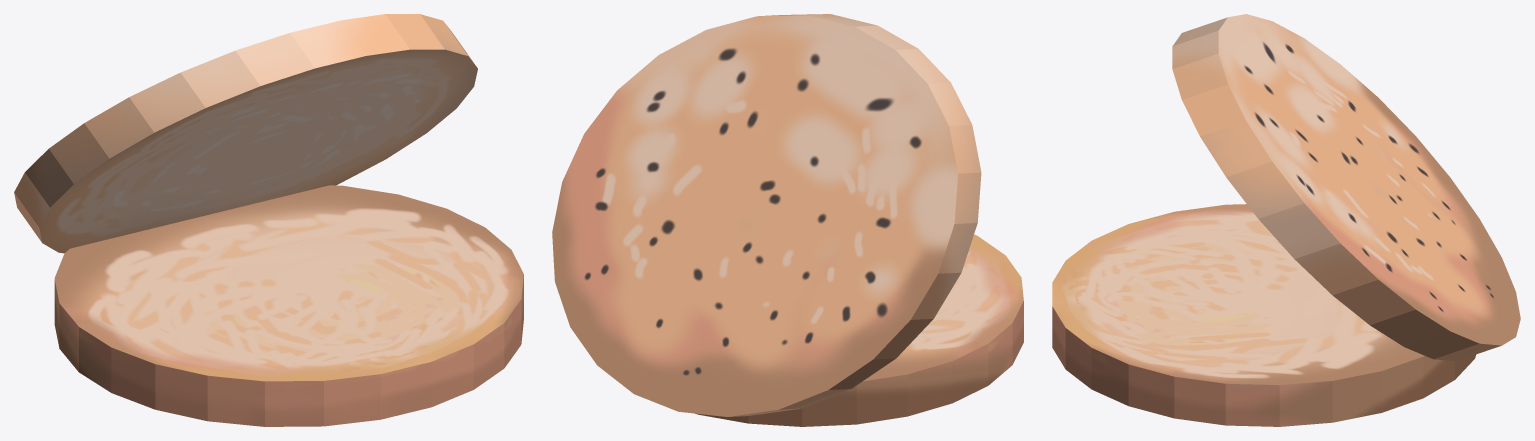
File: BREAD.obj
3 renders of one model, left to right at view 1: azimuth 30°, elevation 25°; view 2: azimuth 150°, elevation 25°; view 3: azimuth 270°, elevation 25°, orthographic. The views are drawn at different scales.
Visible parts, largest first — view 1: Cylinder, Cylinder.001; view 2: Cylinder.001, Cylinder; view 3: Cylinder.001, Cylinder.
Part boxes in pixels (left/top/right/bottom): Cylinder: left=54, top=185, right=523, bottom=426; Cylinder.001: left=14, top=14, right=477, bottom=253; Cylinder.001: left=552, top=14, right=981, bottom=416; Cylinder: left=695, top=234, right=1023, bottom=426; Cylinder.001: left=1172, top=14, right=1520, bottom=361; Cylinder: left=1052, top=204, right=1476, bottom=426.
Bounding box in the file's own units: 3.5 × 2.64 × 3.81.
